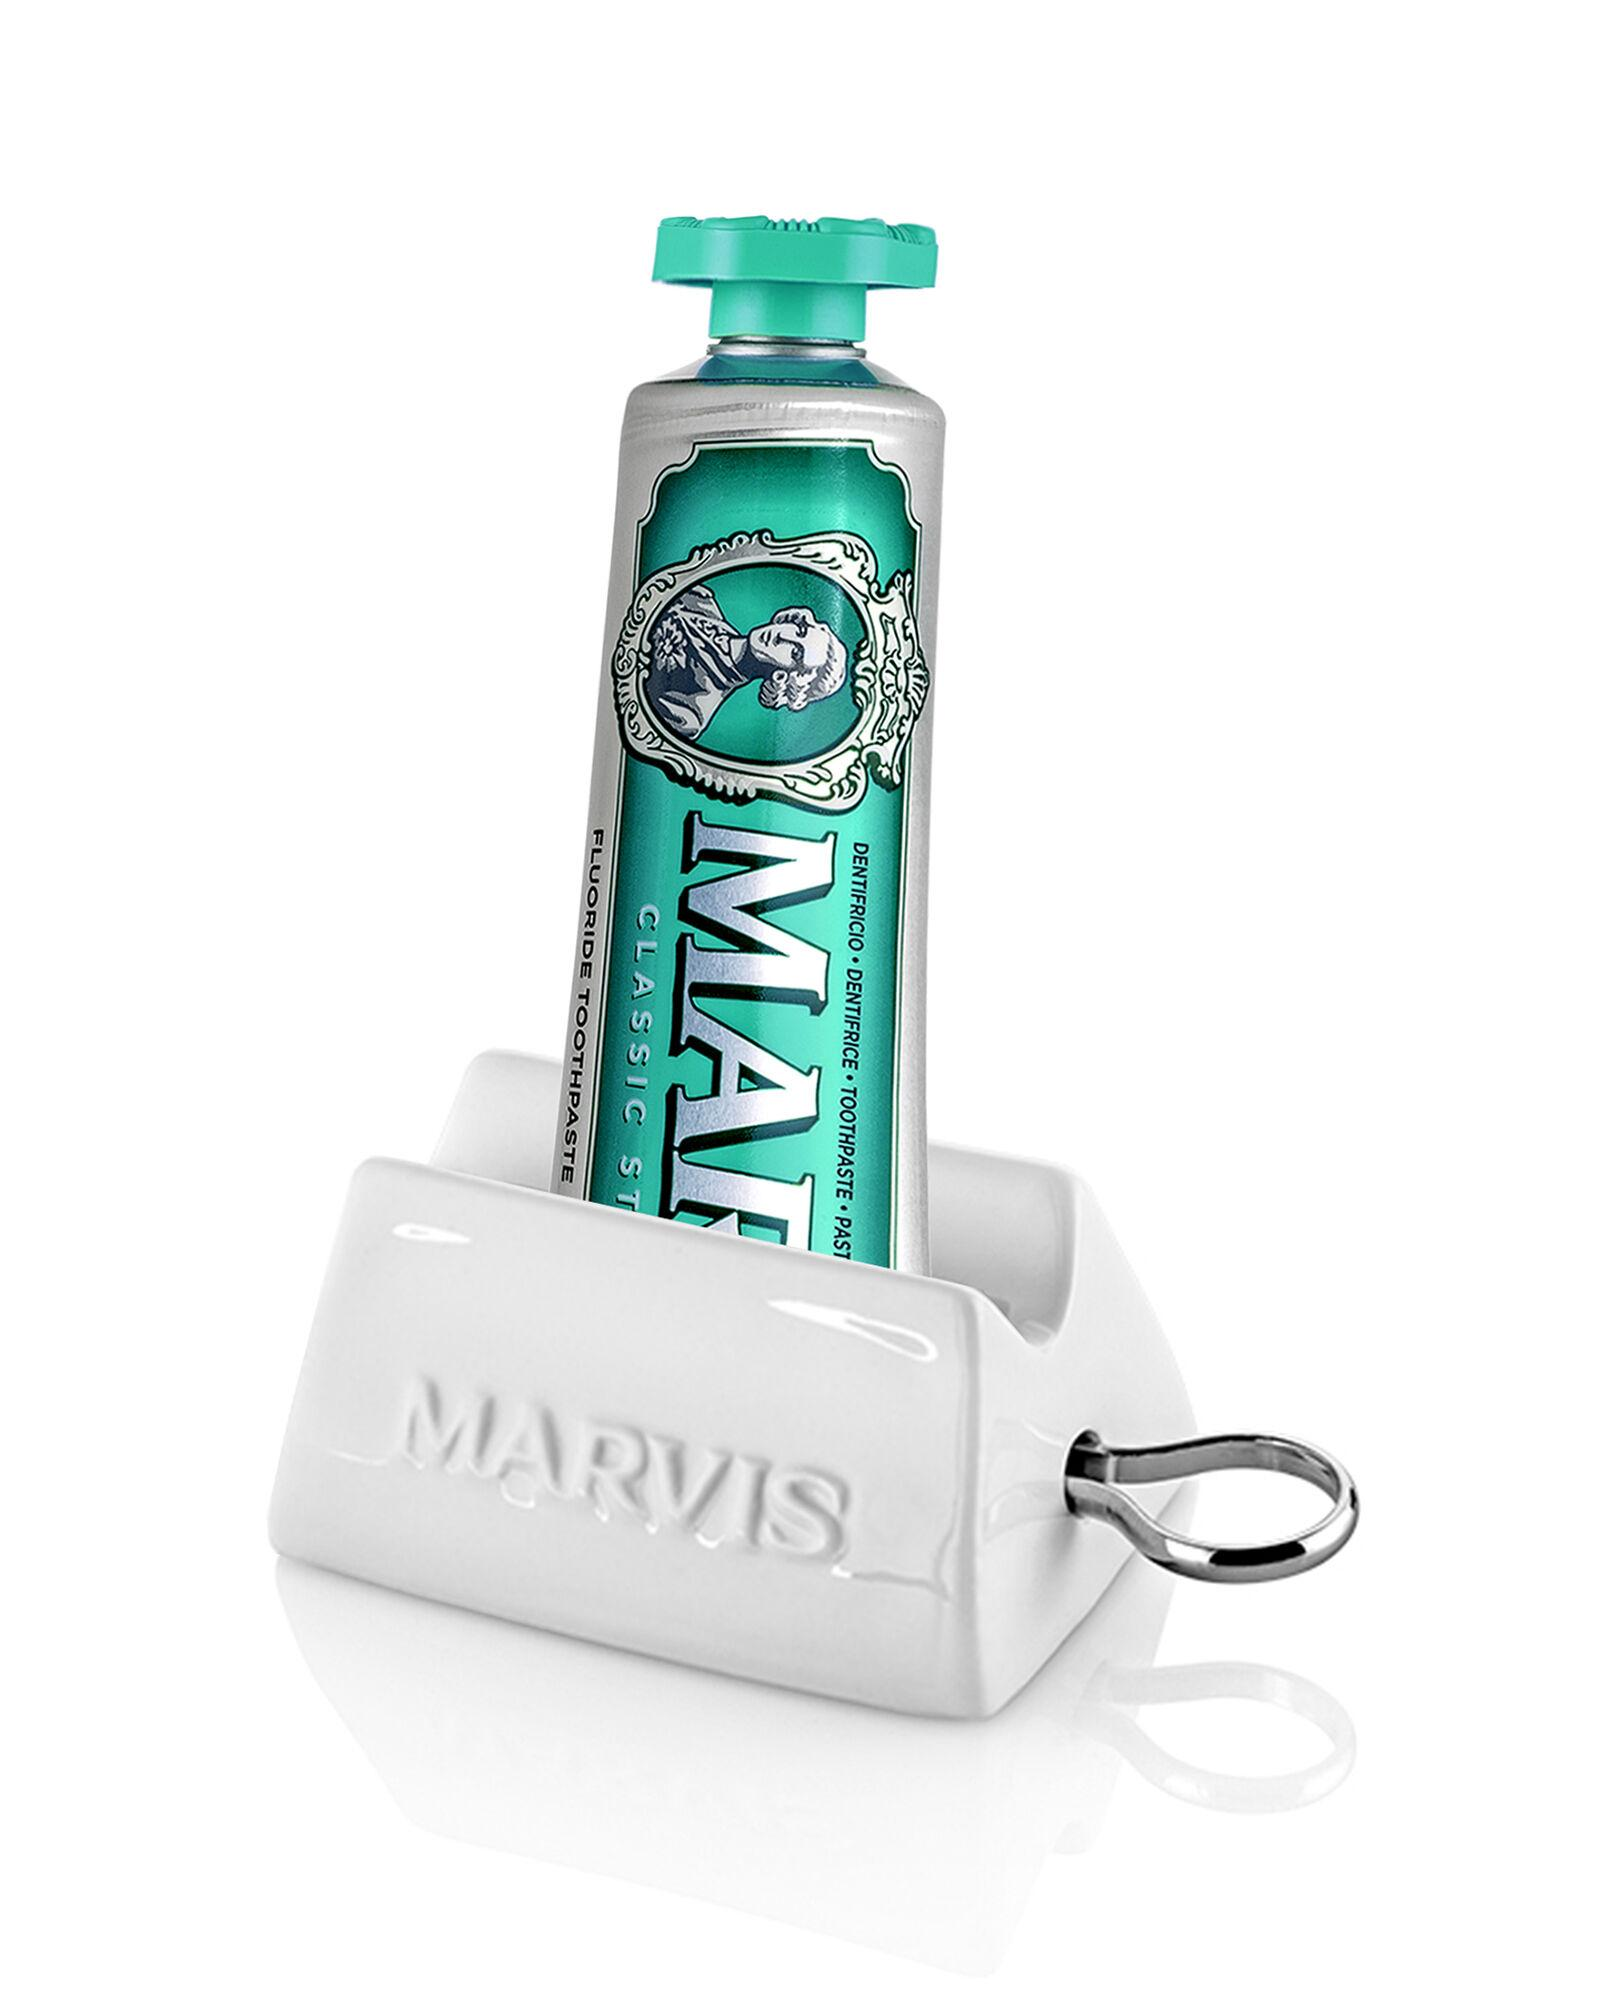toothpaste: (562, 124, 1016, 1523)
